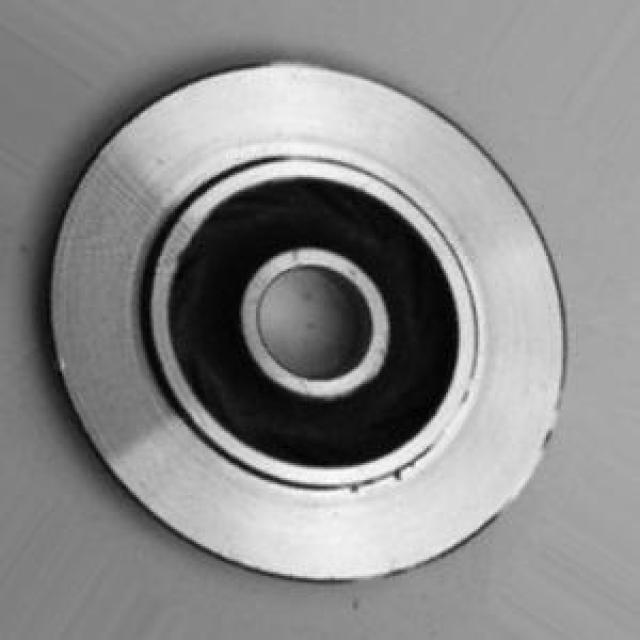Defect: (380, 461, 413, 488)
